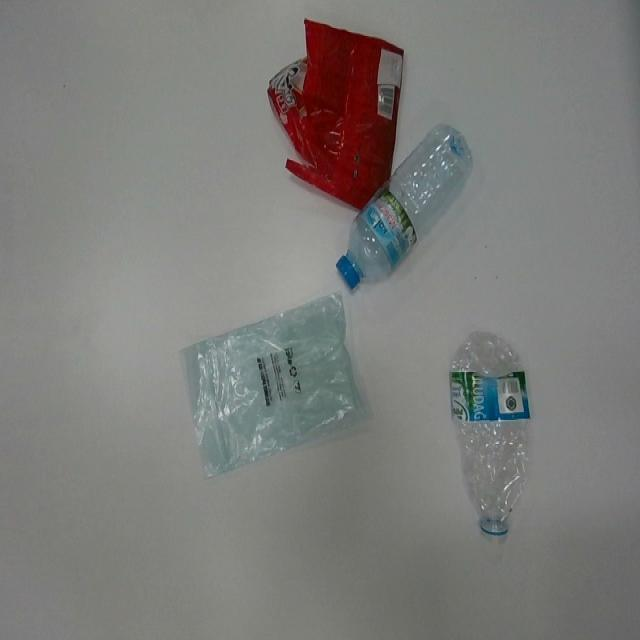plastic: (181, 290, 371, 479), (268, 17, 406, 213), (337, 123, 472, 289), (451, 330, 529, 541)
